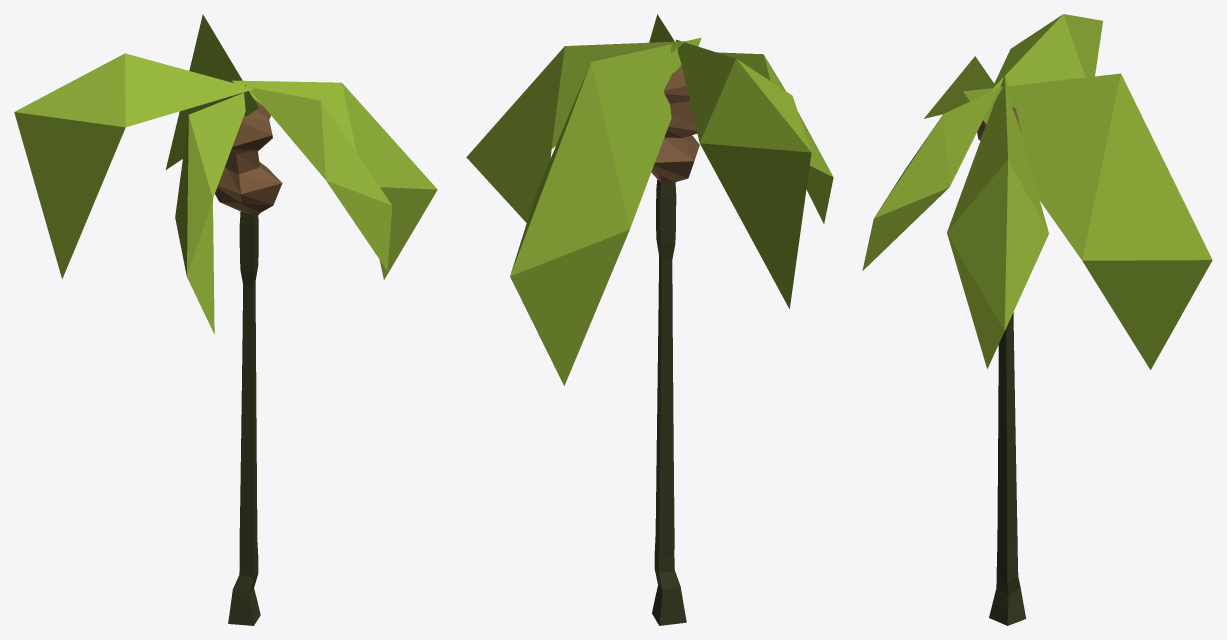
File: Acai_lvl10-15.glb
The picture shows the model from 3 angles, left to right: view 1: azimuth 30°, elevation 25°; view 2: azimuth 150°, elevation 25°; view 3: azimuth 270°, elevation 25°; orthographic projection. The views are drawn at different scales.
Visible parts, largest first — view 1: Acai_lvl10-15; view 2: Acai_lvl10-15; view 3: Acai_lvl10-15.
Part boxes in pixels (bbox=[...]): Acai_lvl10-15: bbox=[14, 14, 437, 625]; Acai_lvl10-15: bbox=[466, 14, 833, 625]; Acai_lvl10-15: bbox=[862, 14, 1212, 625].
Size of the model in its own units: 0.299 by 0.4344 by 0.2458.
